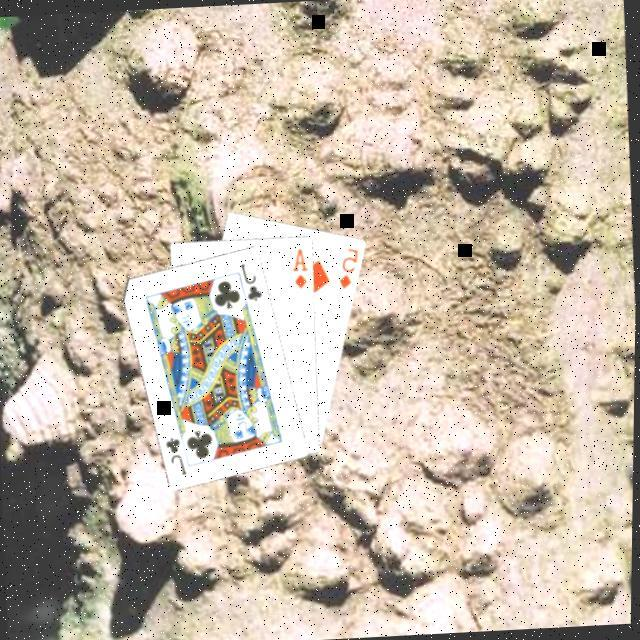5D: (336, 242, 366, 290)
AD: (290, 242, 315, 289)
JC: (238, 257, 268, 303), (164, 431, 194, 476)
